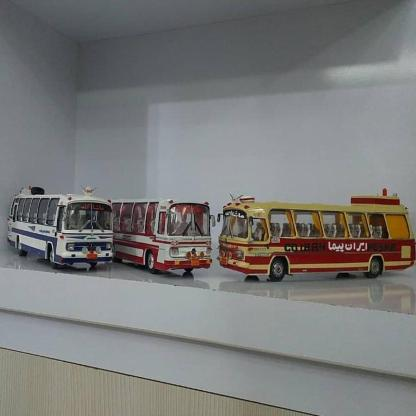Bus: (220, 185, 416, 292), (6, 179, 117, 277), (108, 185, 214, 281)
